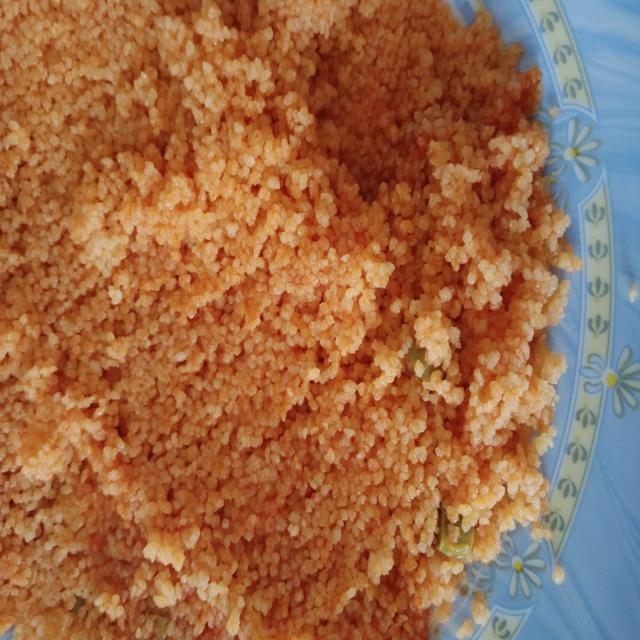Couscous: (1, 0, 608, 638)
